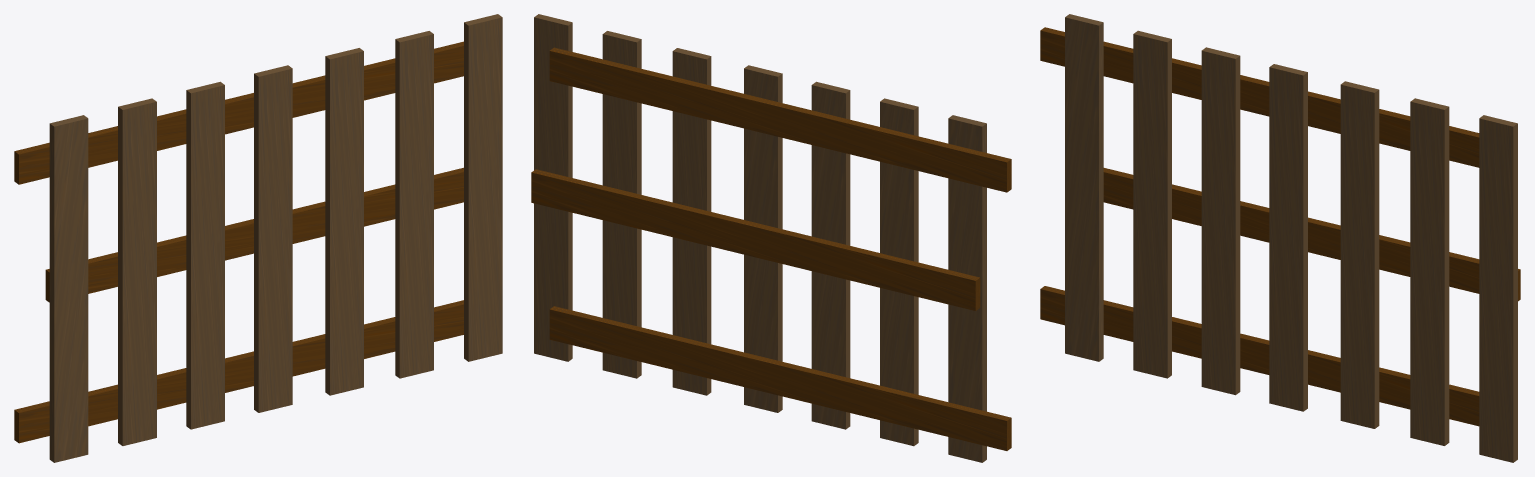
Rendered from WoodenFence.fbx.
3 views of the same model, side by side, from view 1: azimuth 30°, elevation 25°; view 2: azimuth 150°, elevation 25°; view 3: azimuth 330°, elevation 25° (orthographic).
Parts seen in each view (by area): view 1: WoodenFence; view 2: WoodenFence; view 3: WoodenFence.
Part boxes in pixels (box(x1,y1,x2,y2)): WoodenFence: box(14, 14, 502, 462); WoodenFence: box(531, 14, 1011, 462); WoodenFence: box(1040, 14, 1520, 462).
Size of the model in its own units: 327 by 219 by 11.75.
2 materials, 2 textured.
